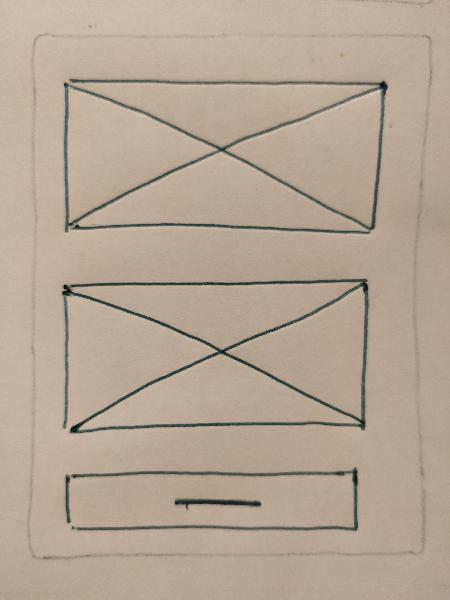button: (56, 463, 363, 541)
image: (55, 70, 390, 250), (48, 270, 377, 444)
